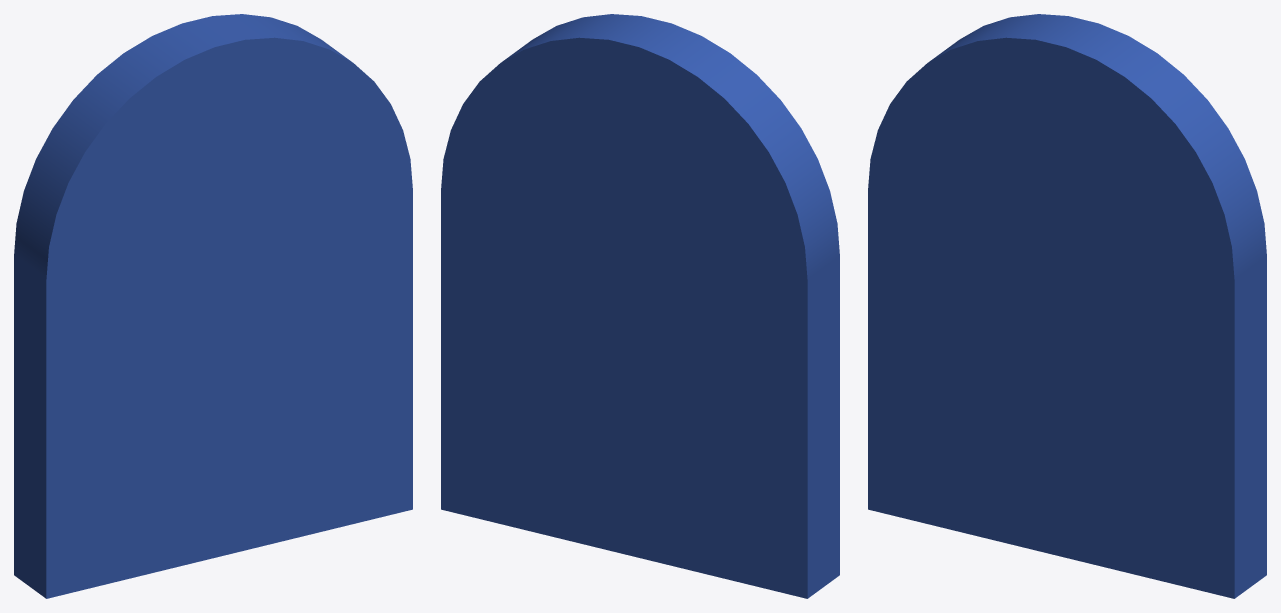
Rendered from middle.dae.
The picture shows the model from 3 angles, left to right: view 1: azimuth 30°, elevation 25°; view 2: azimuth 150°, elevation 25°; view 3: azimuth 330°, elevation 25°; orthographic projection.
Visible parts, largest first — view 1: ID2; view 2: ID2; view 3: ID2.
Boxes of the visible parts, x1,y1,x2,y2 form: ID2: (14,14,412,598); ID2: (441,14,839,598); ID2: (868,14,1266,598).
Bounding box in the file's own units: 0.03 × 0.00461 × 0.0399.
